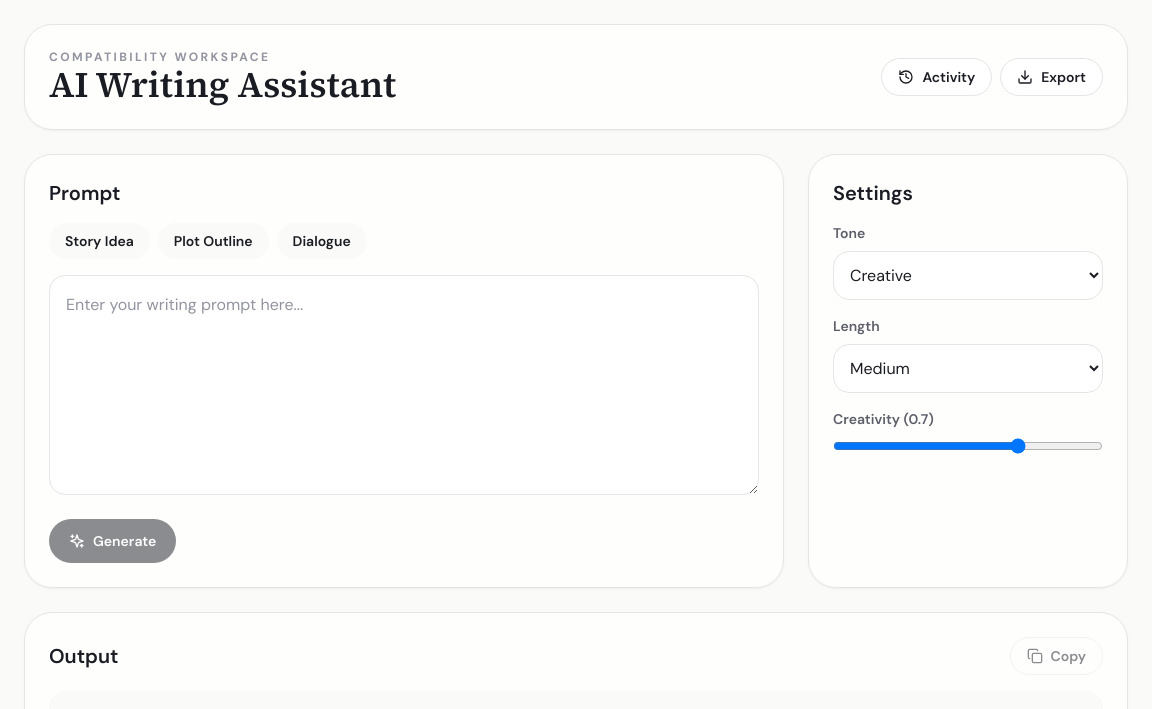
it: WriterAssistant › enables generate button when prompt has content
Type "Test prompt" into the text box with placeholder "Enter your writing prompt here..." at (404, 385), box [49,275,759,495]
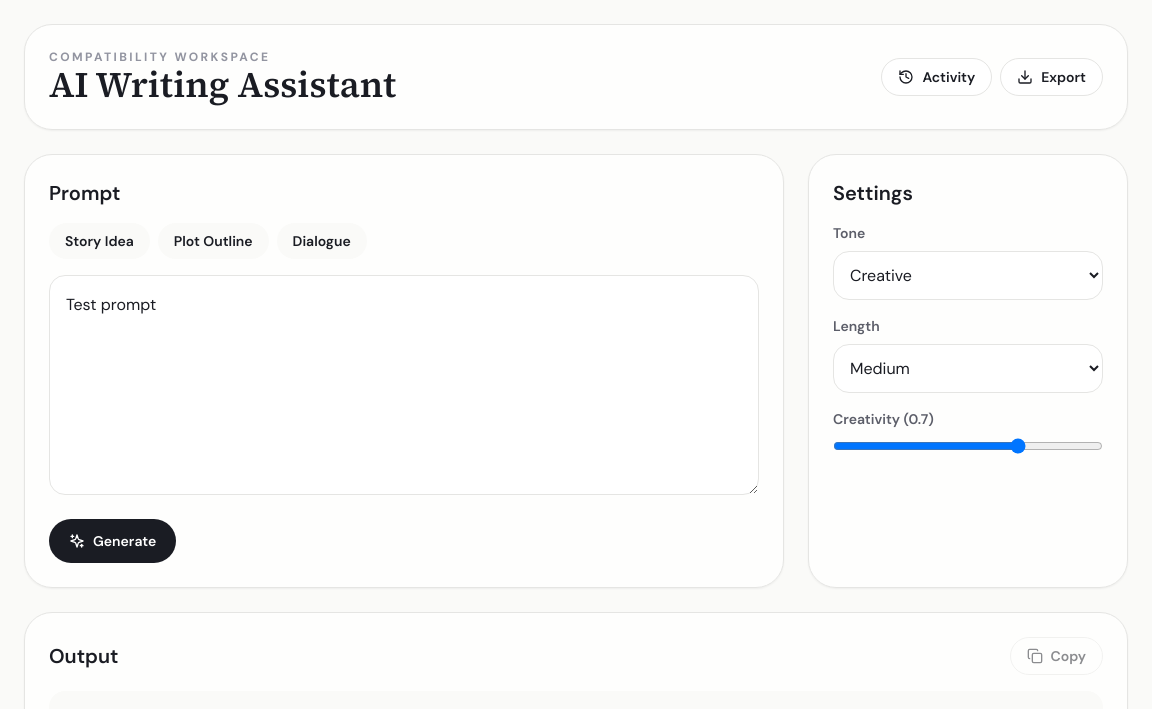
Result: the button "Generate" is enabled at [49,519,176,563]
